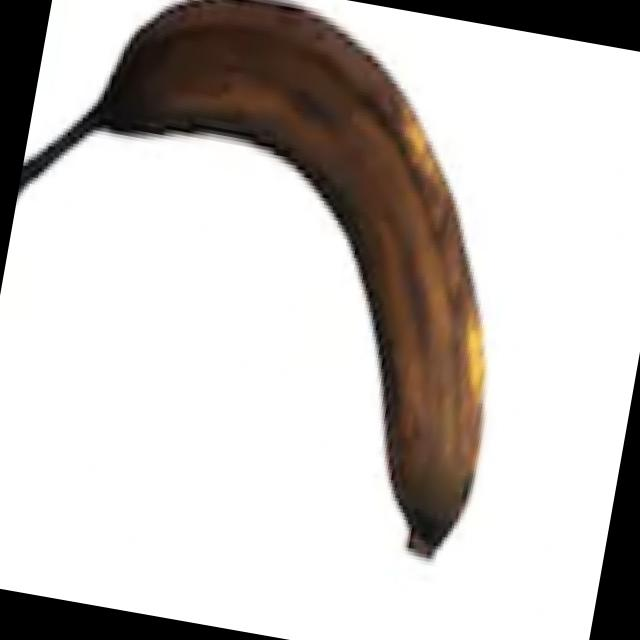rotten-banana: (0, 0, 549, 564)
